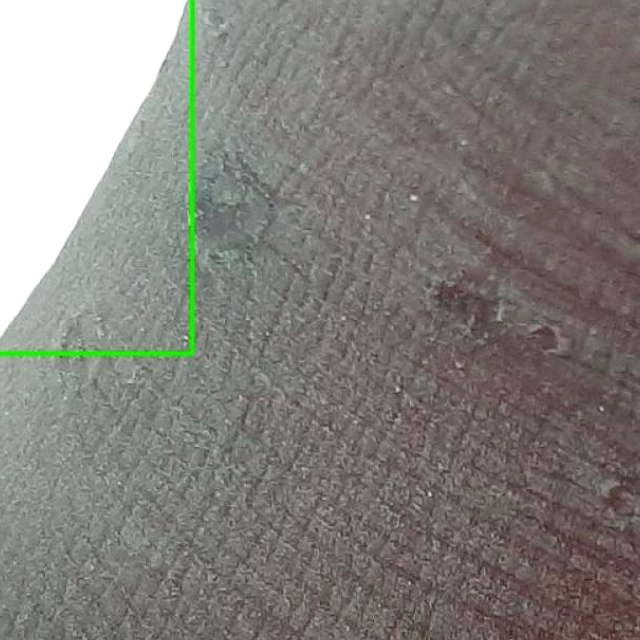Contact Dermatitis: (0, 0, 192, 354)
